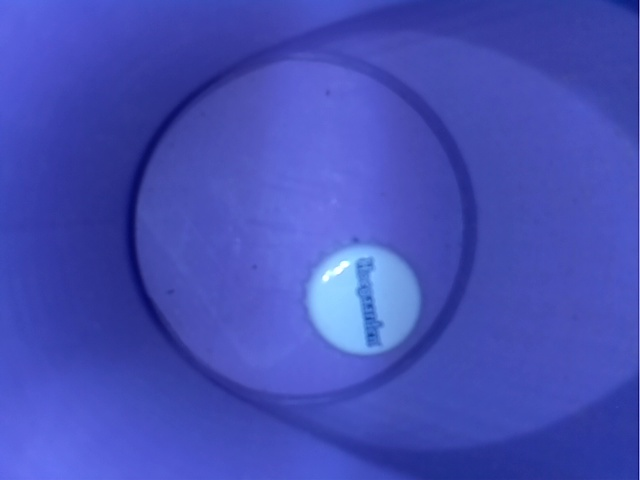capsule: (275, 231, 450, 375)
